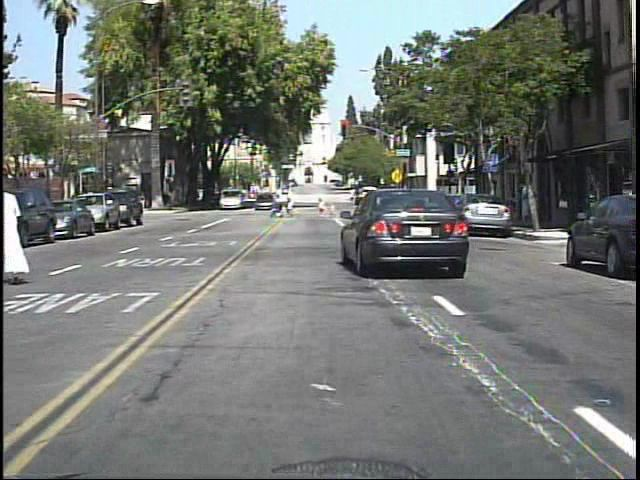person: (6, 183, 42, 287), (517, 175, 541, 229), (286, 183, 303, 221)
